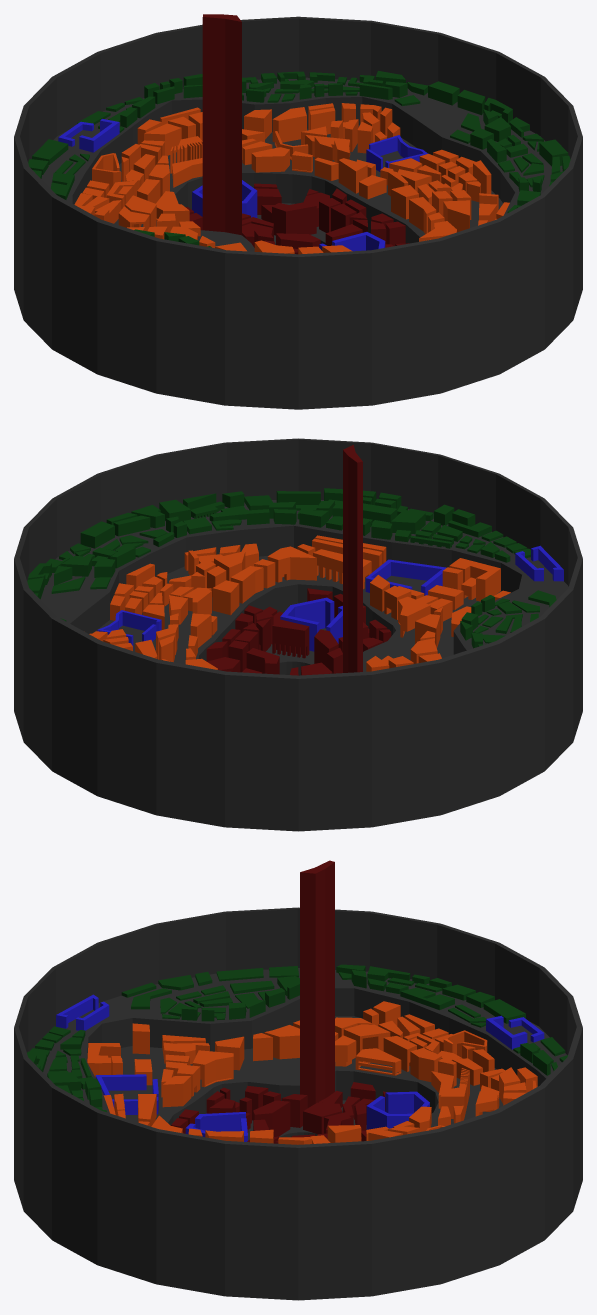
The model's file is P_JPO_Bowl_V5 1.fbx.
3 views of the same model, one above another, from view 1: azimuth 30°, elevation 25°; view 2: azimuth 150°, elevation 25°; view 3: azimuth 270°, elevation 25° (orthographic).
Parts seen in each view (by area): view 1: M_New_Bowl; view 2: M_New_Bowl; view 3: M_New_Bowl.
Boxes of the visible parts, x1,y1,x2,y2 form: M_New_Bowl: (14,14,582,409); M_New_Bowl: (14,438,582,831); M_New_Bowl: (14,860,582,1300).
Bounding box in the file's own units: 504 × 274 × 504.
